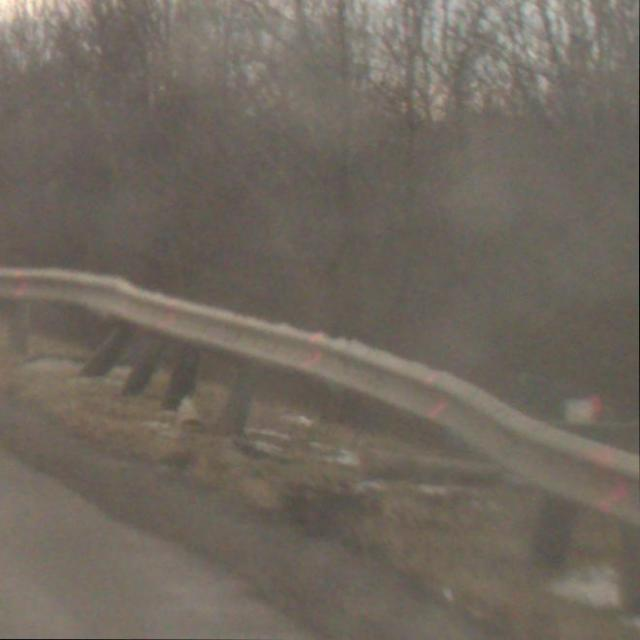Guard rail: (0, 266, 640, 572)
